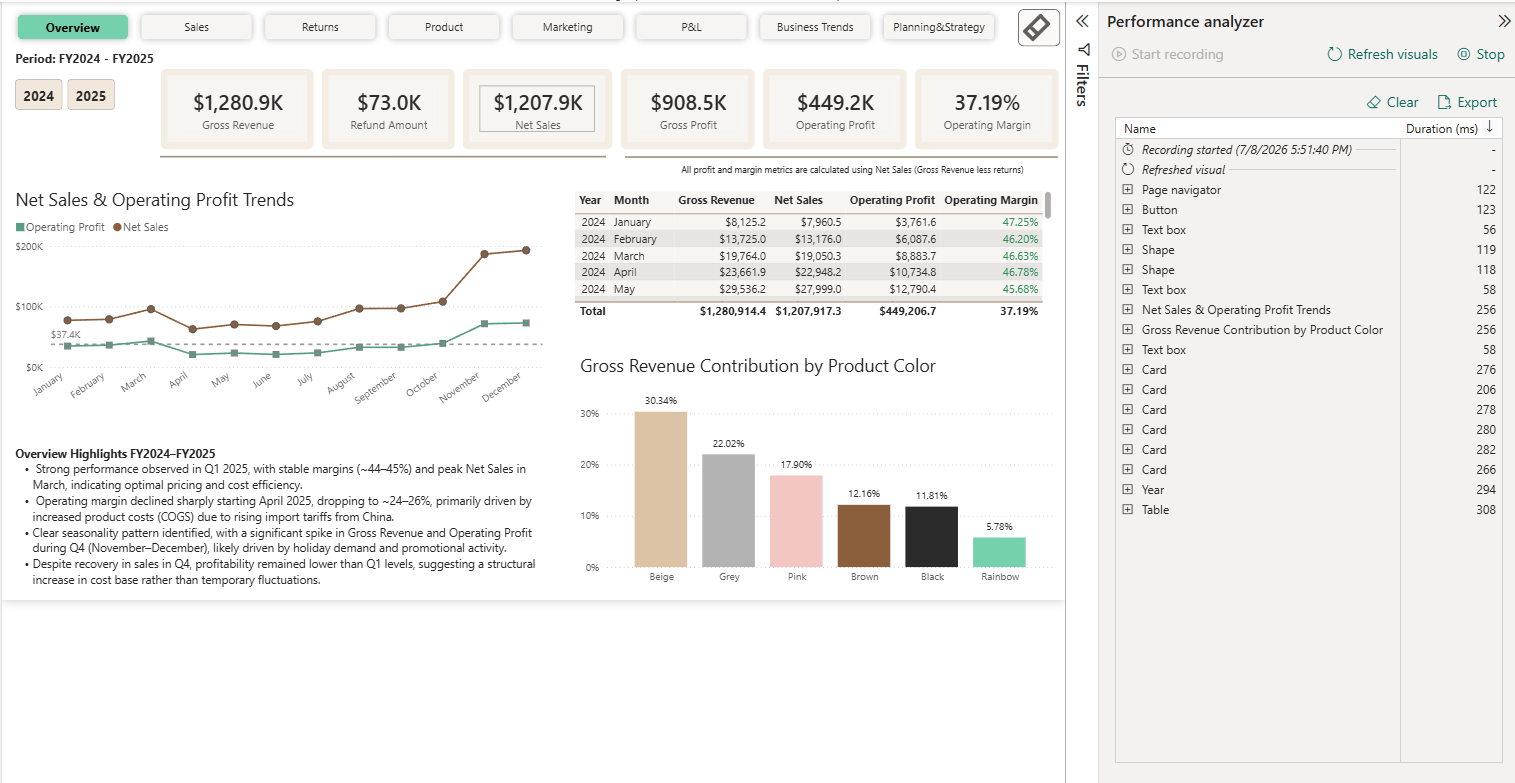

The dashboard page shown, as its layout file describes it:
{"tool":"powerbi","page":{"name":"Overview","canvas":[1280,720],"ordinal":0},"visuals":[{"type":"cardVisual","fields":{"Data":["_measures.Net Sales (Post-Returns)"]},"box":[554.3,79.9,181.6,99],"z":0},{"type":"cardVisual","fields":{"Data":["_measures.Total Refund Amount"]},"box":[383.8,79.9,162.5,99],"z":1000},{"type":"cardVisual","fields":{"Data":["_measures.Total Revenue"]},"box":[189.7,79.9,186.1,99],"z":2000},{"type":"cardVisual","fields":{"Data":["_measures.Operating_Profit_(EBIT)"]},"box":[915.2,79.9,175.2,99],"z":3000},{"type":"cardVisual","fields":{"Data":["_measures.Opertating_Margin_%"]},"box":[1098.4,79.9,175.2,99],"z":4000},{"type":"lineChart","title":"Net Sales & Operating Profit Trends","fields":{"Y":["_measures.Operating Profit (EBIT)","_measures.Net Sales"],"Category":["dim_date.month_name"]},"box":[10.9,223.3,645.4,285],"z":5000},{"type":"clusteredColumnChart","title":"Gross Revenue Contribution by Product Color","fields":{"Y":["_measures.Total_Revenue"],"Category":["dim_product.color"]},"box":[690.8,422.1,581,287.8],"z":6000},{"type":"actionButton","box":[1223.1,7.8,51,45.1],"z":7000},{"type":"pageNavigator","box":[10.8,7,1199.6,46.1],"z":8000},{"type":"advancedSlicerVisual","fields":{"Values":["dim_date.year_number"]},"box":[11,88,131,47.6],"z":9000},{"type":"tableEx","fields":{"Values":["dim_date.year_number","dim_date.month_name","_measures.Total Revenue","_measures.Net Sales (Post-Returns)","_measures.Operating Profit (EBIT)","_measures.Operating Margin %"]},"box":[684.4,222.9,585.4,162.8],"z":10000},{"type":"textbox","box":[10.9,53.6,178.8,34.5],"z":11000},{"type":"cardVisual","fields":{"Data":["_measures.Gross Profit"]},"box":[743.9,79.9,163.4,99],"z":12000},{"type":"textbox","box":[812.3,186.5,448.8,27.5],"z":13000},{"type":"shape","box":[189.7,179.7,537.4,13.6],"z":14000},{"type":"shape","box":[750.8,178.8,521.1,14.5],"z":15000},{"type":"textbox","box":[10.9,528.3,645.4,181.6],"z":16000}]}

Visuals, with their boxes on the page's 1280x720 design canvas (x1, y1, x2, y2). These are canvas units, not pixel positions in the 1515x783 screenshot, which may show the page scaled, cropped or inside an application window:
cardVisual - _measures.Net Sales (Post-Returns): box(554, 80, 736, 179)
cardVisual - _measures.Total Refund Amount: box(384, 80, 546, 179)
cardVisual - _measures.Total Revenue: box(190, 80, 376, 179)
cardVisual - _measures.Operating_Profit_(EBIT): box(915, 80, 1090, 179)
cardVisual - _measures.Opertating_Margin_%: box(1098, 80, 1274, 179)
"Net Sales & Operating Profit Trends" lineChart: box(11, 223, 656, 508)
"Gross Revenue Contribution by Product Color" clusteredColumnChart: box(691, 422, 1272, 710)
actionButton: box(1223, 8, 1274, 53)
pageNavigator: box(11, 7, 1210, 53)
advancedSlicerVisual - dim_date.year_number: box(11, 88, 142, 136)
tableEx - dim_date.year_number x dim_date.month_name: box(684, 223, 1270, 386)
textbox: box(11, 54, 190, 88)
cardVisual - _measures.Gross Profit: box(744, 80, 907, 179)
textbox: box(812, 186, 1261, 214)
shape: box(190, 180, 727, 193)
shape: box(751, 179, 1272, 193)
textbox: box(11, 528, 656, 710)
